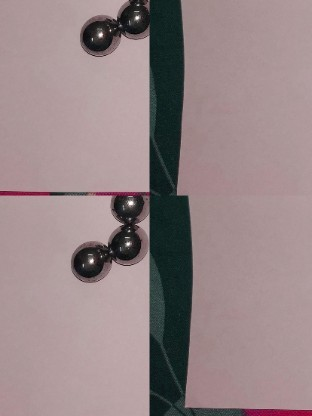ironball: (66, 242, 119, 284), (76, 17, 122, 60), (104, 221, 150, 264), (117, 0, 150, 41), (112, 193, 150, 227)
